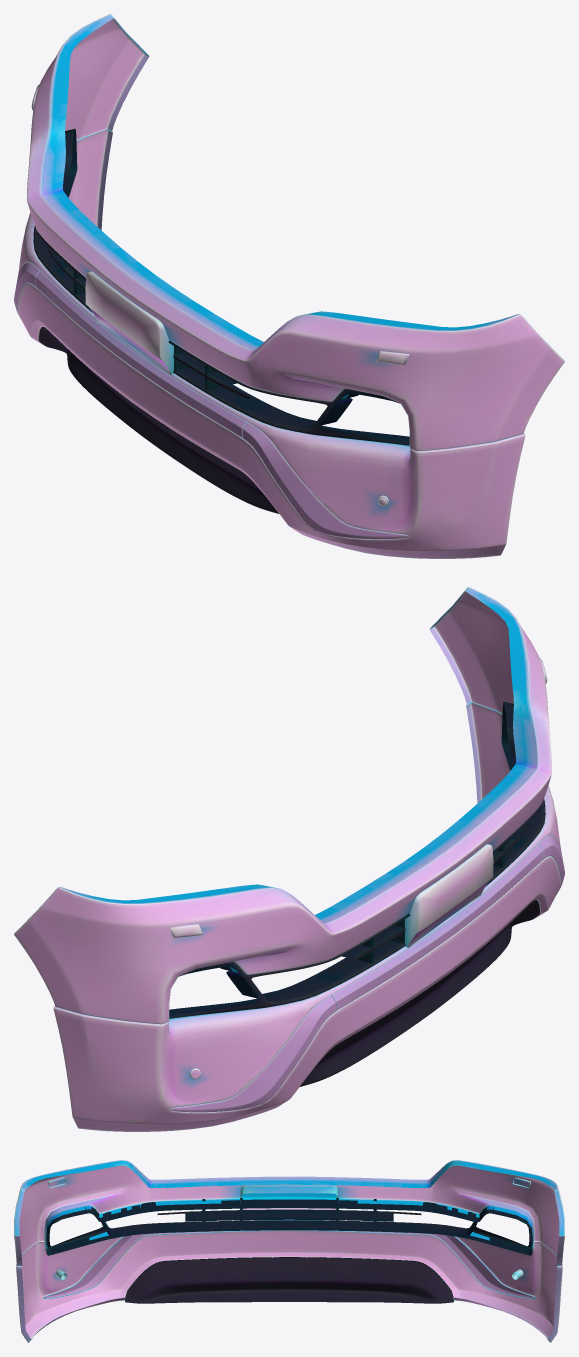
The model's file is bumper_front.glb.
3 renders of one model, top to bottom at view 1: azimuth 30°, elevation 25°; view 2: azimuth 150°, elevation 25°; view 3: azimuth 270°, elevation 25°, orthographic. The views are drawn at different scales.
Parts seen in each view (by area): view 1: carpaint_6, bumper_chrome01_5, black_11, bumper_black_13, carpaint_7, black_12; view 2: carpaint_6, bumper_chrome01_5, black_11, bumper_black_13, carpaint_7, black_12; view 3: carpaint_6, bumper_black_13, black_11, bumper_chrome01_5, black_12, carpaint_7.
Boxes of the visible parts, left/top/right/bottom form: carpaint_6: left=17, top=14, right=564, bottom=558; bumper_chrome01_5: left=14, top=262, right=408, bottom=539; black_11: left=33, top=128, right=409, bottom=445; bumper_black_13: left=39, top=327, right=278, bottom=513; carpaint_7: left=31, top=84, right=409, bottom=506; black_12: left=48, top=250, right=249, bottom=399; carpaint_6: left=14, top=587, right=561, bottom=1131; bumper_chrome01_5: left=170, top=835, right=564, bottom=1112; black_11: left=169, top=701, right=545, bottom=1018; bumper_black_13: left=300, top=900, right=539, bottom=1086; carpaint_7: left=169, top=657, right=547, bottom=1079; black_12: left=329, top=823, right=530, bottom=972; carpaint_6: left=14, top=1160, right=564, bottom=1342; bumper_black_13: left=125, top=1257, right=453, bottom=1303; black_11: left=46, top=1199, right=532, bottom=1255; bumper_chrome01_5: left=43, top=1230, right=535, bottom=1298; black_12: left=157, top=1197, right=421, bottom=1221; carpaint_7: left=47, top=1177, right=530, bottom=1279.
Size of the model in its own units: 0.6291 by 0.6237 by 1.96.
